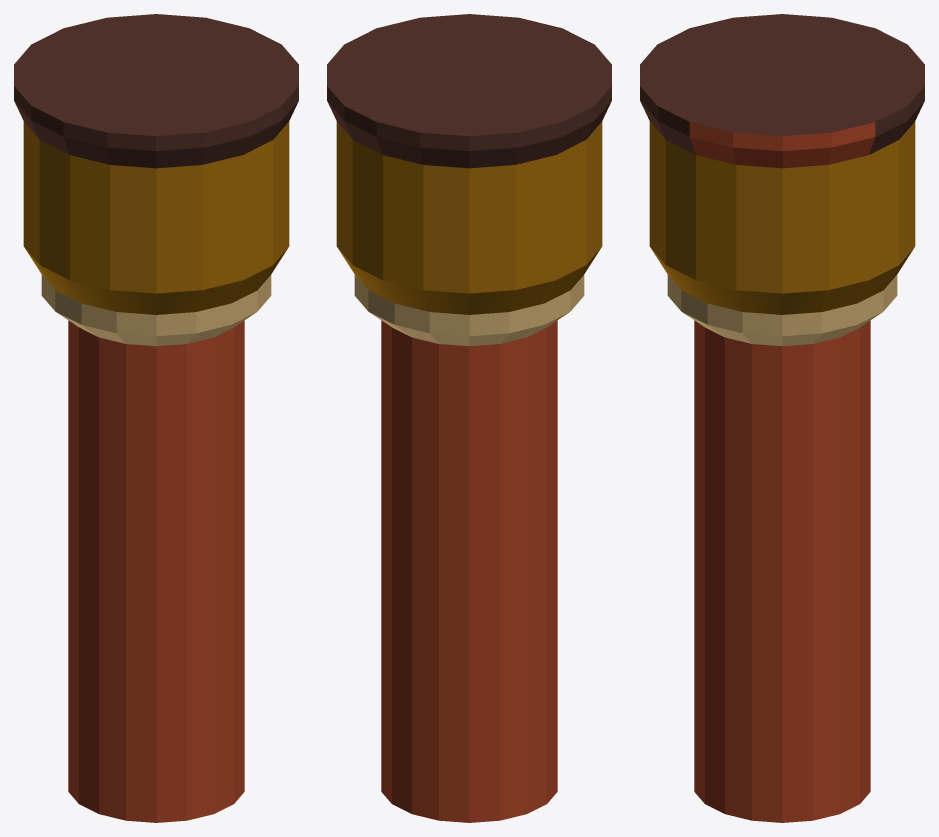
The model's file is Piston 1.fbx.
3 views of the same model, side by side, from view 1: azimuth 30°, elevation 25°; view 2: azimuth 150°, elevation 25°; view 3: azimuth 270°, elevation 25° (orthographic).
Visible parts, largest first — view 1: Object001; view 2: Object001; view 3: Object001.
Boxes of the visible parts, x1,y1,x2,y2 form: Object001: [14, 14, 298, 822]; Object001: [327, 14, 611, 822]; Object001: [640, 14, 924, 822].
Bounding box in the file's own units: 29.4 × 79.61 × 28.96.
1 material, 1 textured.
